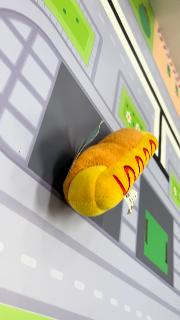hotdog: (63, 126, 160, 218)
